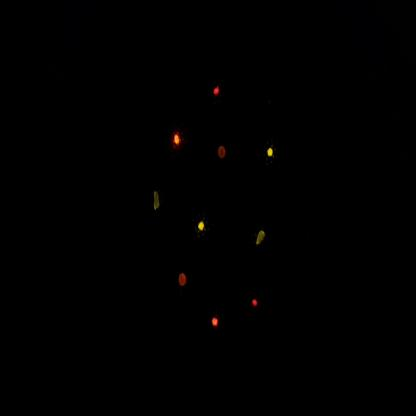PE: (193, 210, 211, 246), (264, 136, 278, 166)
PET: (209, 77, 227, 106), (247, 287, 265, 316)
PP: (146, 181, 168, 222), (252, 220, 272, 254)
PS: (174, 265, 192, 297), (216, 143, 230, 167)
PVC: (168, 121, 187, 160), (208, 306, 224, 342)
